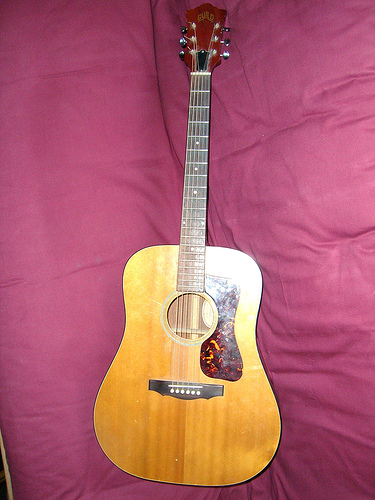guitar: (91, 1, 283, 489)
